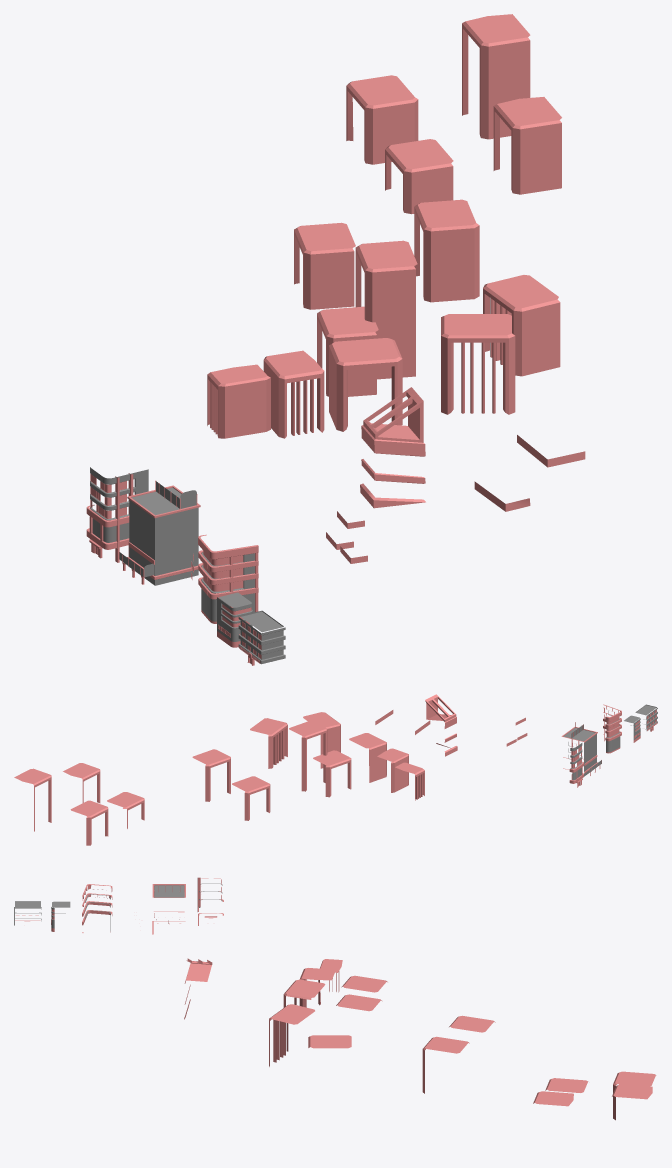
Rendered from S_Envi_Umeda_Building_015b.gltf.
3 views of the same model, one above another, from view 1: azimuth 30°, elevation 25°; view 2: azimuth 150°, elevation 25°; view 3: azimuth 270°, elevation 25° (orthographic). The views are drawn at different scales.
Visible parts, largest first — view 1: S_Envi_Umeda_Building_015b; view 2: S_Envi_Umeda_Building_015b; view 3: S_Envi_Umeda_Building_015b.
Boxes of the visible parts, x1,y1,x2,y2 form: S_Envi_Umeda_Building_015b: (86, 14, 585, 665); S_Envi_Umeda_Building_015b: (14, 694, 657, 845); S_Envi_Umeda_Building_015b: (14, 877, 656, 1120).
Size of the model in its own units: 406 by 56.8 by 478.
